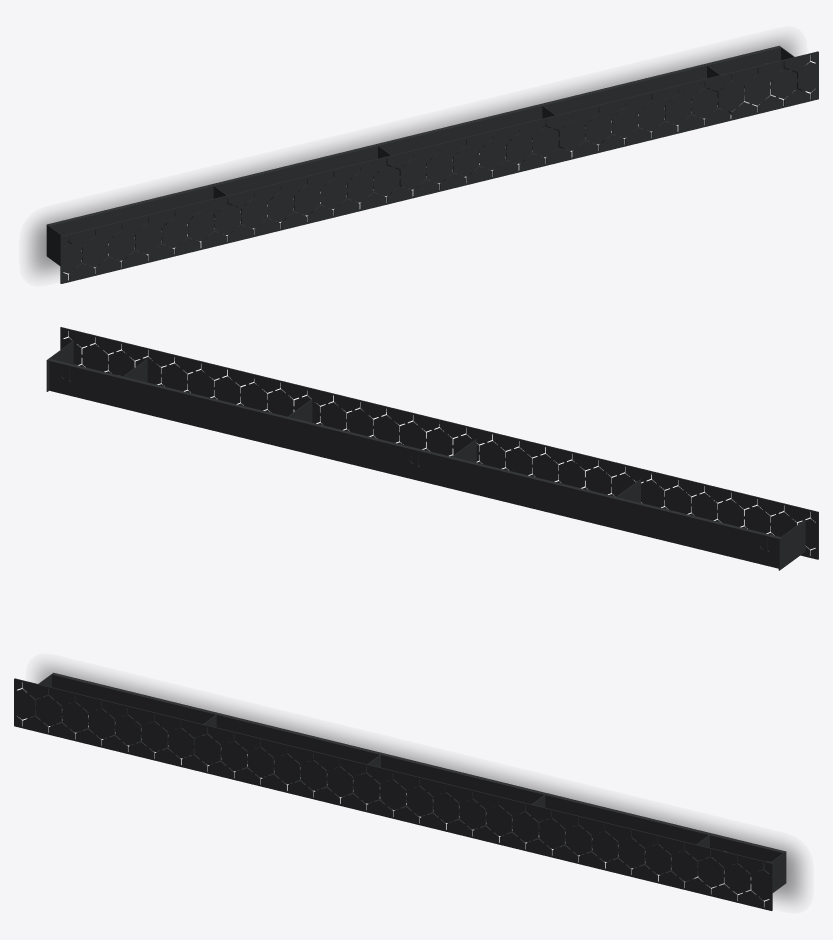
File: bee-patron.b9c377e758.ar.glb
The picture shows the model from 3 angles, top to bottom: view 1: azimuth 30°, elevation 25°; view 2: azimuth 150°, elevation 25°; view 3: azimuth 330°, elevation 25°; orthographic projection.
Visible parts, largest first — view 1: NAUO1, object 2; view 2: NAUO1; view 3: NAUO1, object 2.
Part boxes in pixels (bbox=[...]): NAUO1: bbox=[46, 45, 818, 283]; object 2: bbox=[29, 38, 797, 274]; NAUO1: bbox=[46, 327, 818, 570]; NAUO1: bbox=[14, 672, 786, 910]; object 2: bbox=[35, 665, 803, 901].
Bounding box in the file's own units: 1.58 × 0.17 × 0.092.
2 materials, 1 textured.
